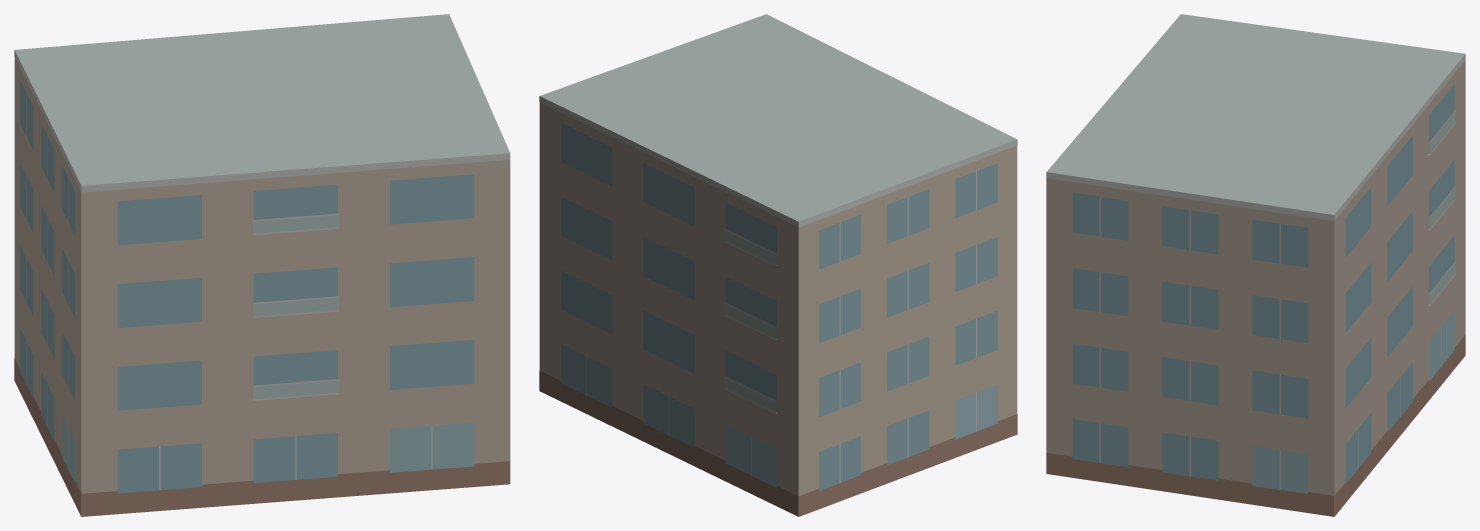
Rendered from survey-upis-32709034.glb.
The picture shows the model from 3 angles, left to right: view 1: azimuth 30°, elevation 25°; view 2: azimuth 150°, elevation 25°; view 3: azimuth 270°, elevation 25°; orthographic projection. The views are drawn at different scales.
Parts seen in each view (by area): view 1: survey-upis-32709034.tmp; view 2: survey-upis-32709034.tmp; view 3: survey-upis-32709034.tmp.
Part boxes in pixels (x1,y1,x2,y2): survey-upis-32709034.tmp: (14,14,510,516); survey-upis-32709034.tmp: (539,14,1017,516); survey-upis-32709034.tmp: (1046,14,1465,516).
Bounding box in the file's own units: 17.44 × 12.2 × 15.36.
